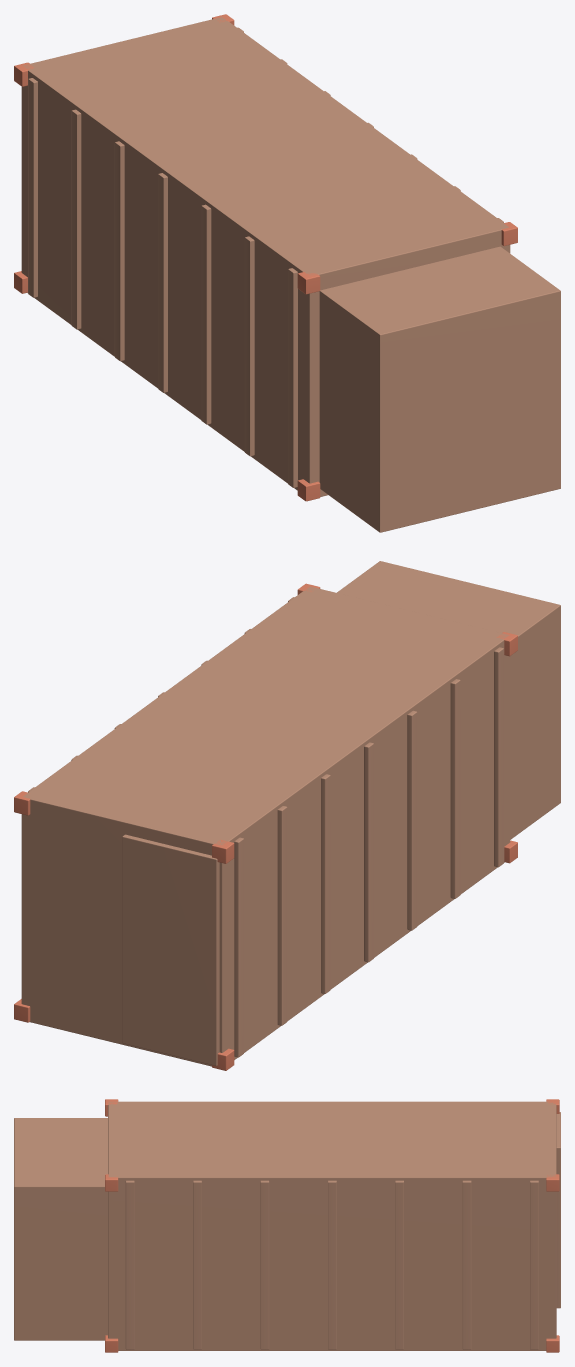
Rendered from container_open20.glb.
The picture shows the model from 3 angles, top to bottom: view 1: azimuth 30°, elevation 25°; view 2: azimuth 150°, elevation 25°; view 3: azimuth 270°, elevation 25°; orthographic projection. The views are drawn at different scales.
Visible parts, largest first — view 1: container_open20; view 2: container_open20; view 3: container_open20.
Part boxes in pixels (x1,y1,x2,y2): container_open20: (14,14,560,532); container_open20: (14,561,560,1070); container_open20: (14,1099,560,1352).
Size of the model in its own units: 2.58 by 2.59 by 7.39.
